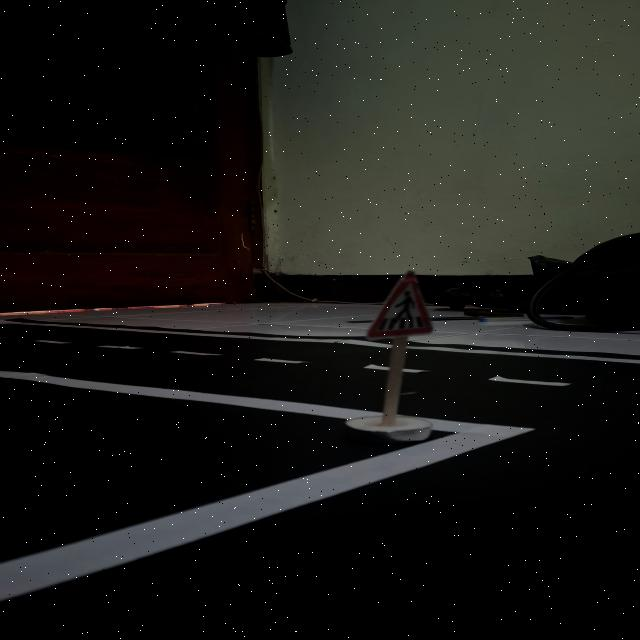Rambu Penyebrangan: (365, 270, 434, 338)
